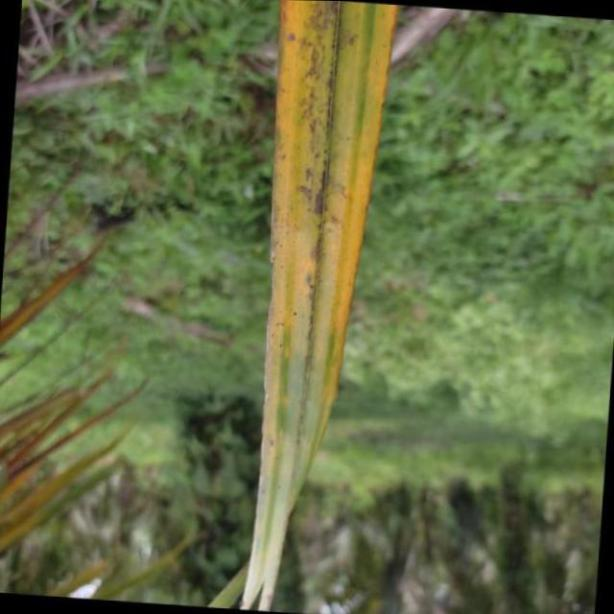Megnesium: (248, 0, 396, 614)
